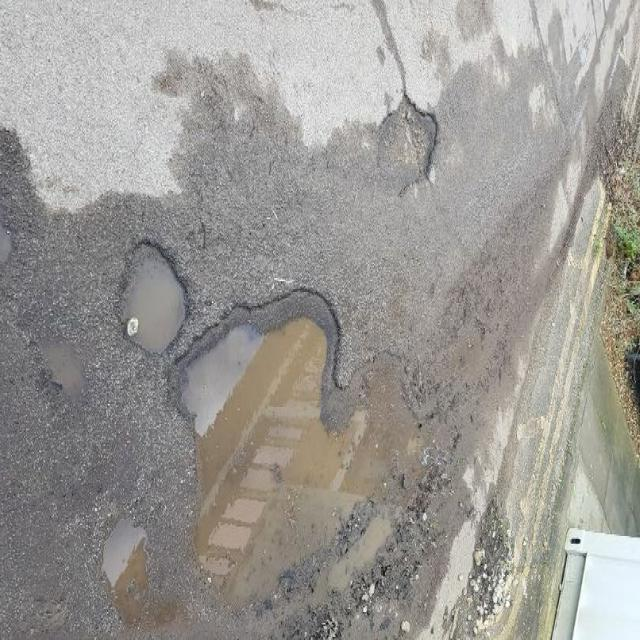Pothole: (168, 273, 441, 603), (112, 228, 195, 365), (372, 88, 442, 207)
